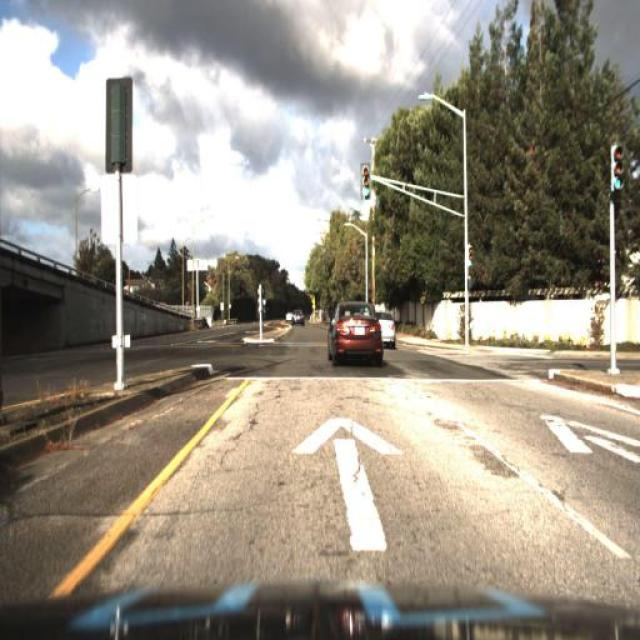car: (328, 297, 393, 368), (370, 313, 396, 345), (291, 304, 307, 328)
trafficLight-GreenLeft: (608, 147, 630, 197), (361, 166, 373, 209), (362, 163, 372, 207)
